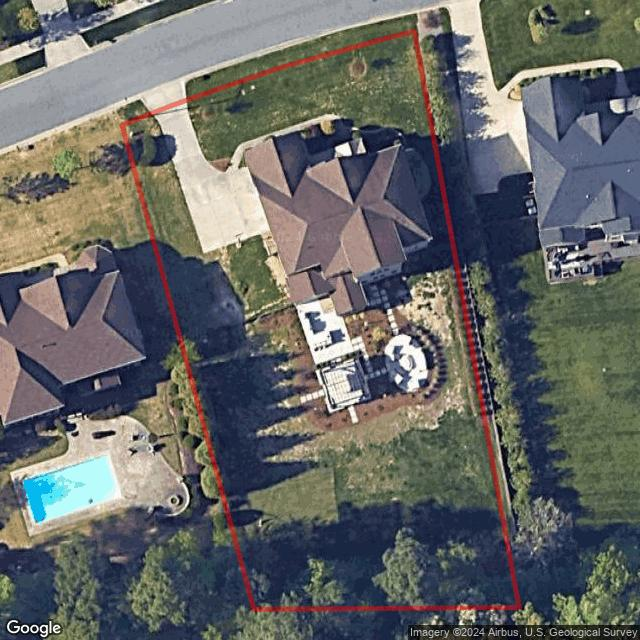Driveway: (152, 100, 271, 254)
Extra-Driveway: (137, 77, 186, 115)
Extra-Lawn: (186, 14, 415, 101), (117, 99, 151, 126)
House: (241, 131, 433, 316)
Lawn: (122, 30, 521, 610)
Other: (258, 276, 449, 430), (350, 127, 428, 202), (262, 233, 287, 295), (296, 122, 340, 156)
Sidewalk: (226, 114, 352, 172)
